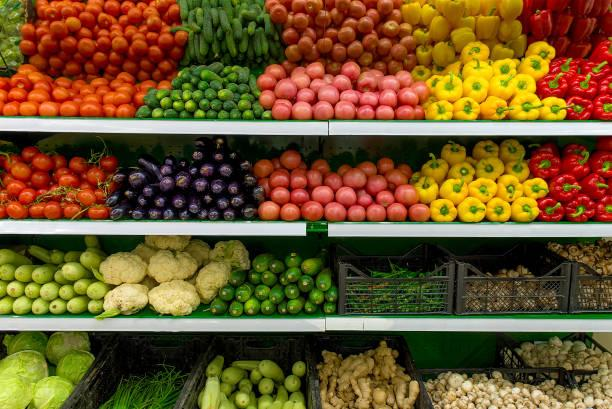cabbage: (0, 331, 104, 409)
cucumber: (215, 250, 339, 314), (137, 65, 273, 119), (178, 0, 286, 65)
eggplant: (111, 152, 264, 221)
ginger: (314, 339, 423, 409)
sweet pepper: (411, 130, 612, 223), (404, 0, 612, 60), (417, 57, 612, 120)
tomato: (255, 151, 430, 224), (24, 0, 185, 68), (266, 0, 417, 64), (258, 66, 425, 120), (0, 150, 117, 221), (0, 74, 172, 116)
